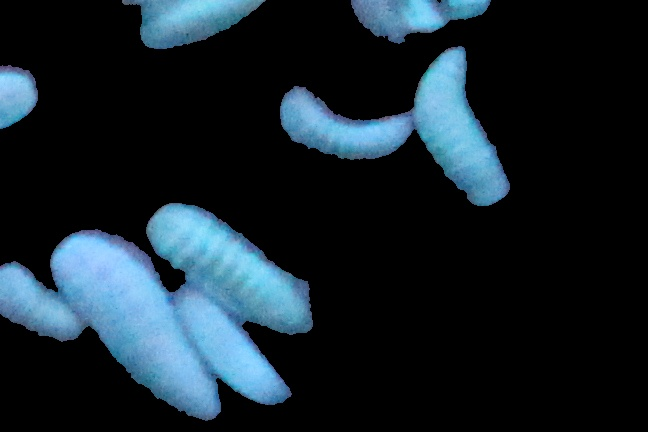larvae: (51, 234, 217, 425), (146, 203, 311, 338), (416, 50, 508, 209), (177, 292, 294, 414), (281, 90, 412, 163), (140, 1, 273, 51), (1, 266, 80, 345), (1, 61, 50, 126)
